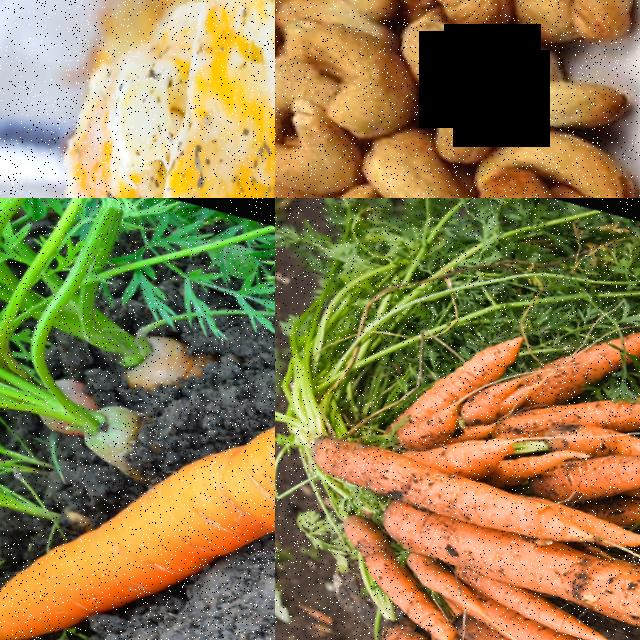carrot: (91, 332, 275, 640), (337, 487, 640, 610), (311, 423, 607, 543), (399, 280, 484, 433), (455, 563, 627, 629), (536, 363, 640, 443), (92, 294, 197, 371), (51, 381, 157, 456), (495, 596, 640, 640), (321, 616, 537, 640)
cashew: (392, 0, 507, 171), (275, 7, 411, 124), (497, 107, 640, 198), (507, 40, 636, 133), (275, 94, 369, 198), (450, 158, 548, 198)
